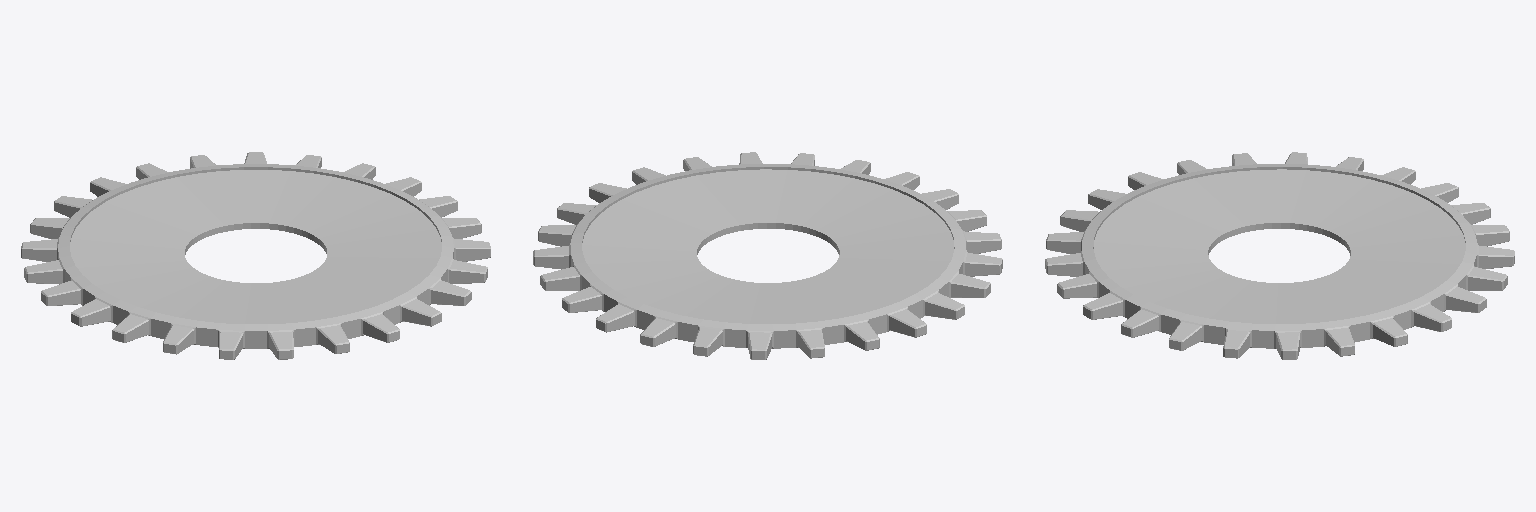
File: GEAR.obj
The picture shows the model from 3 angles: view 1: azimuth 30°, elevation 25°; view 2: azimuth 150°, elevation 25°; view 3: azimuth 270°, elevation 25°; orthographic projection.
Parts seen in each view (by area): view 1: GEAR; view 2: GEAR; view 3: GEAR.
Part boxes in pixels (left/top/right/bottom): GEAR: left=21, top=152, right=490, bottom=359; GEAR: left=533, top=152, right=1002, bottom=359; GEAR: left=1045, top=152, right=1514, bottom=359.
Size of the model in its own units: 6.38 by 0.3088 by 6.37.